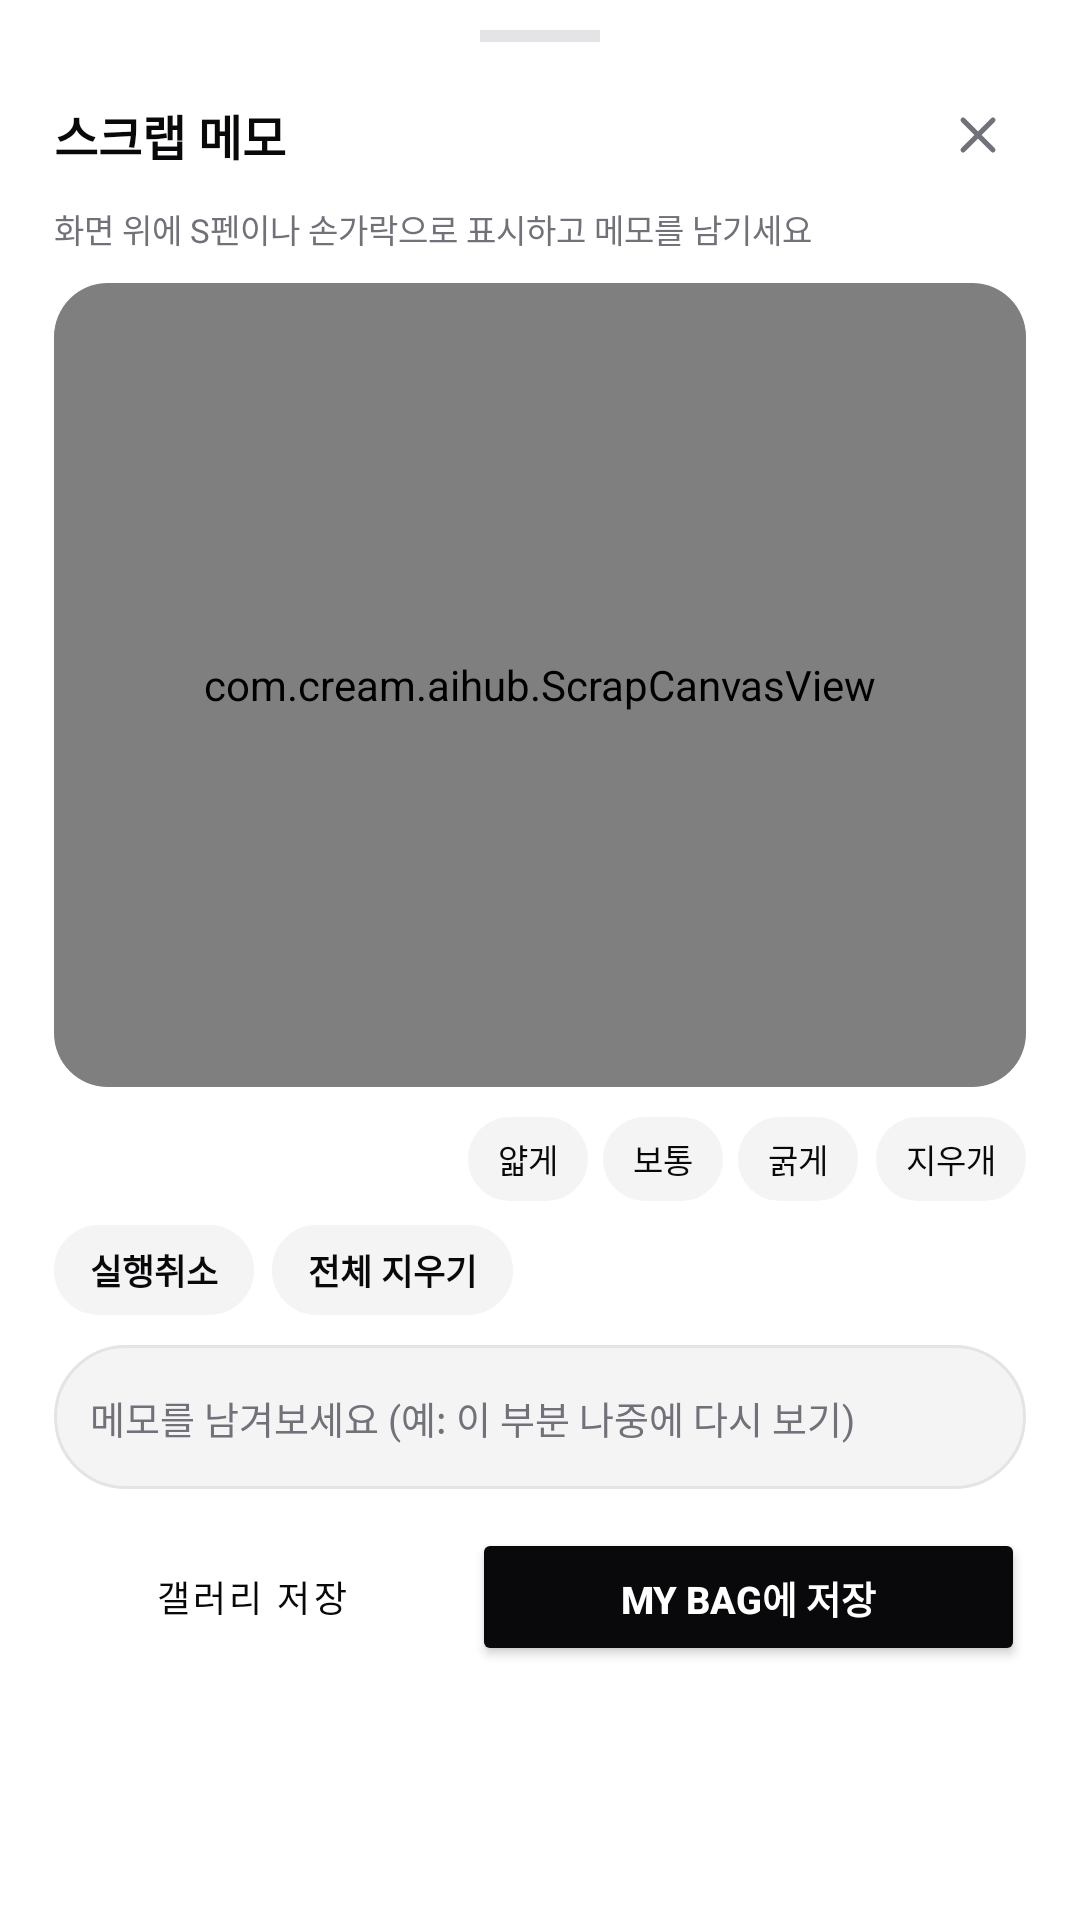

Where icons sit on this 1080 × 1920 app screen, as (x1, y1, x2, y2):
닫기: (960, 117, 996, 153)
